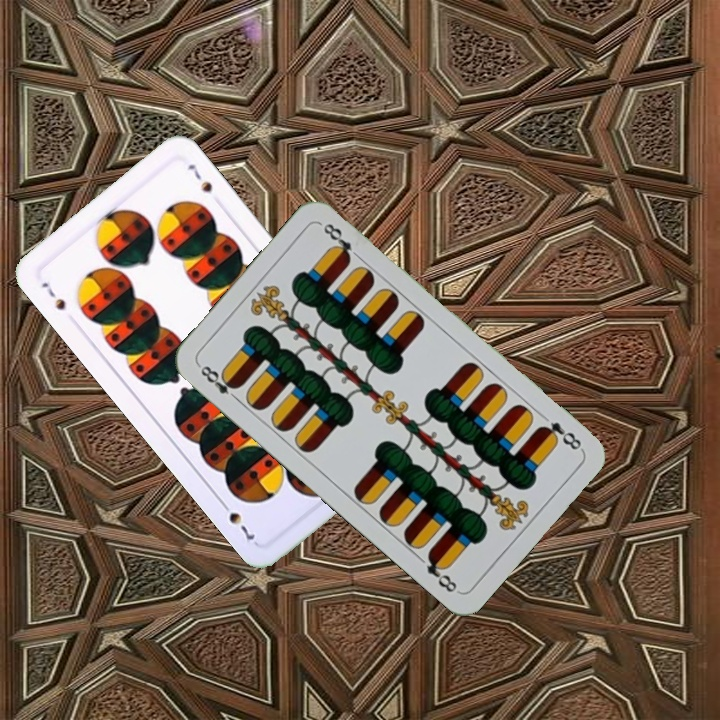E8: (195, 361, 243, 405), (534, 418, 585, 453)
S7: (37, 278, 69, 313)
